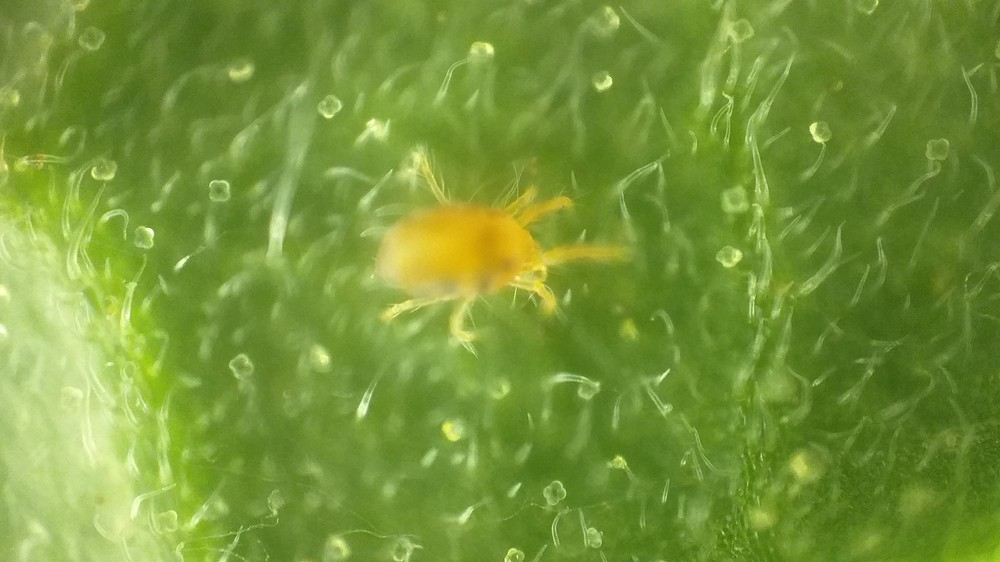Aracnido Rojo: (348, 153, 643, 350)
